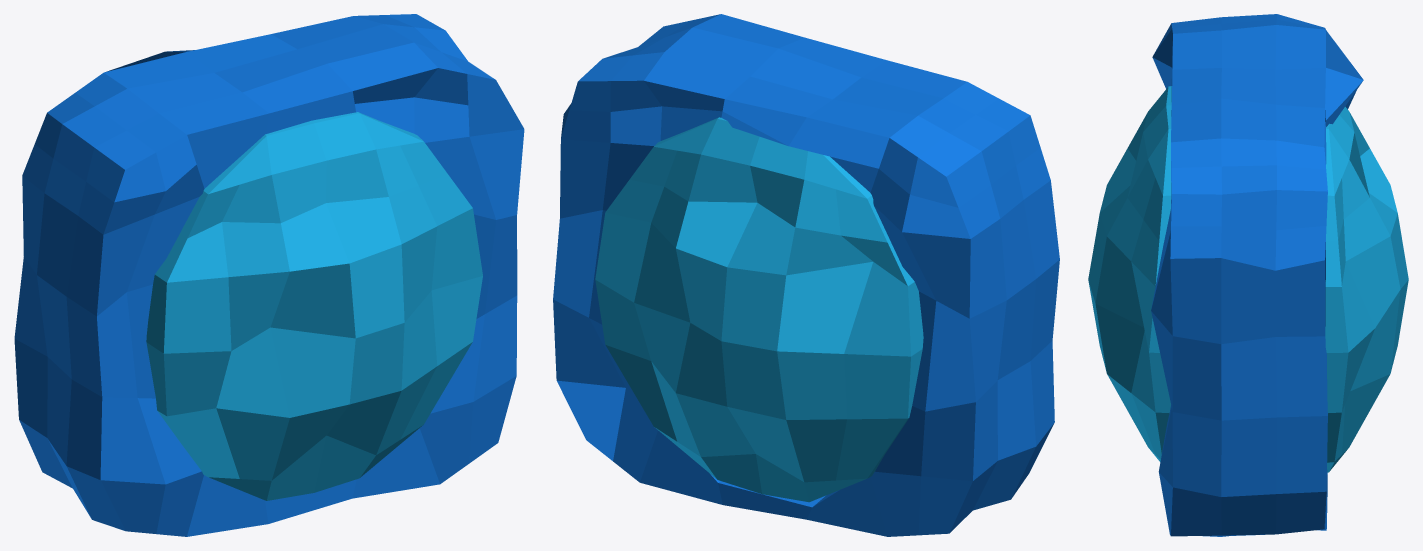
The model's file is MeltingWall.fbx.
3 views of the same model, side by side, from view 1: azimuth 30°, elevation 25°; view 2: azimuth 150°, elevation 25°; view 3: azimuth 270°, elevation 25° (orthographic). The views are drawn at different scales.
Visible parts, largest first — view 1: Wall, Dissolve; view 2: Wall, Dissolve; view 3: Wall, Dissolve.
Part boxes in pixels (x1=…): Wall: x1=14, y1=14, x2=524, y2=536; Dissolve: x1=146, y1=112, x2=482, y2=500; Wall: x1=553, y1=14, x2=1059, y2=536; Dissolve: x1=595, y1=117, x2=923, y2=502; Wall: x1=1151, y1=14, x2=1363, y2=536; Dissolve: x1=1088, y1=86, x2=1408, y2=472.
Size of the model in its own units: 794 by 716 by 522.
